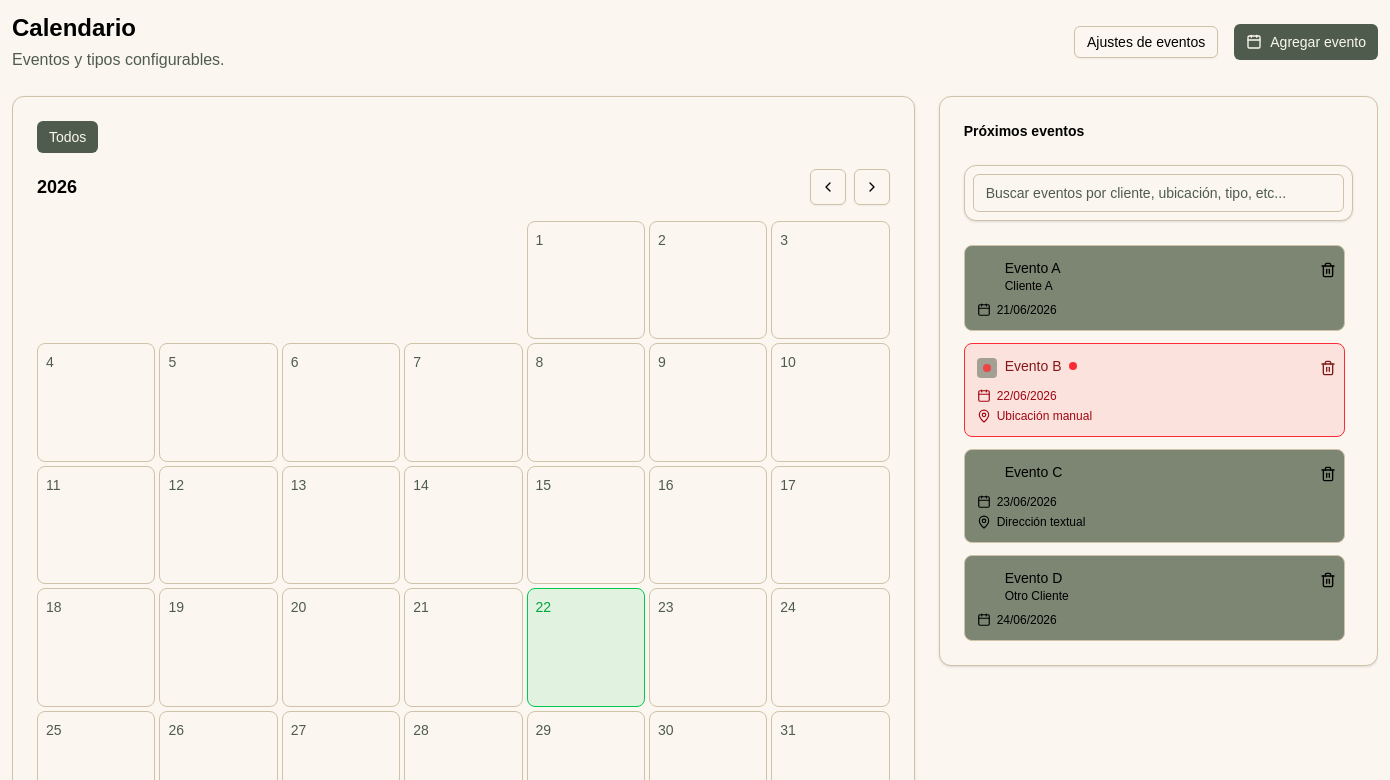
Test: CalendarView › search › filters by work locality from workDataMap
This screenshot has width=1390, height=780.
In the field with placeholder "Buscar eventos por cliente, ubicación, tipo, etc...": (1158, 193) [973, 174, 1344, 212], type "Palermo"
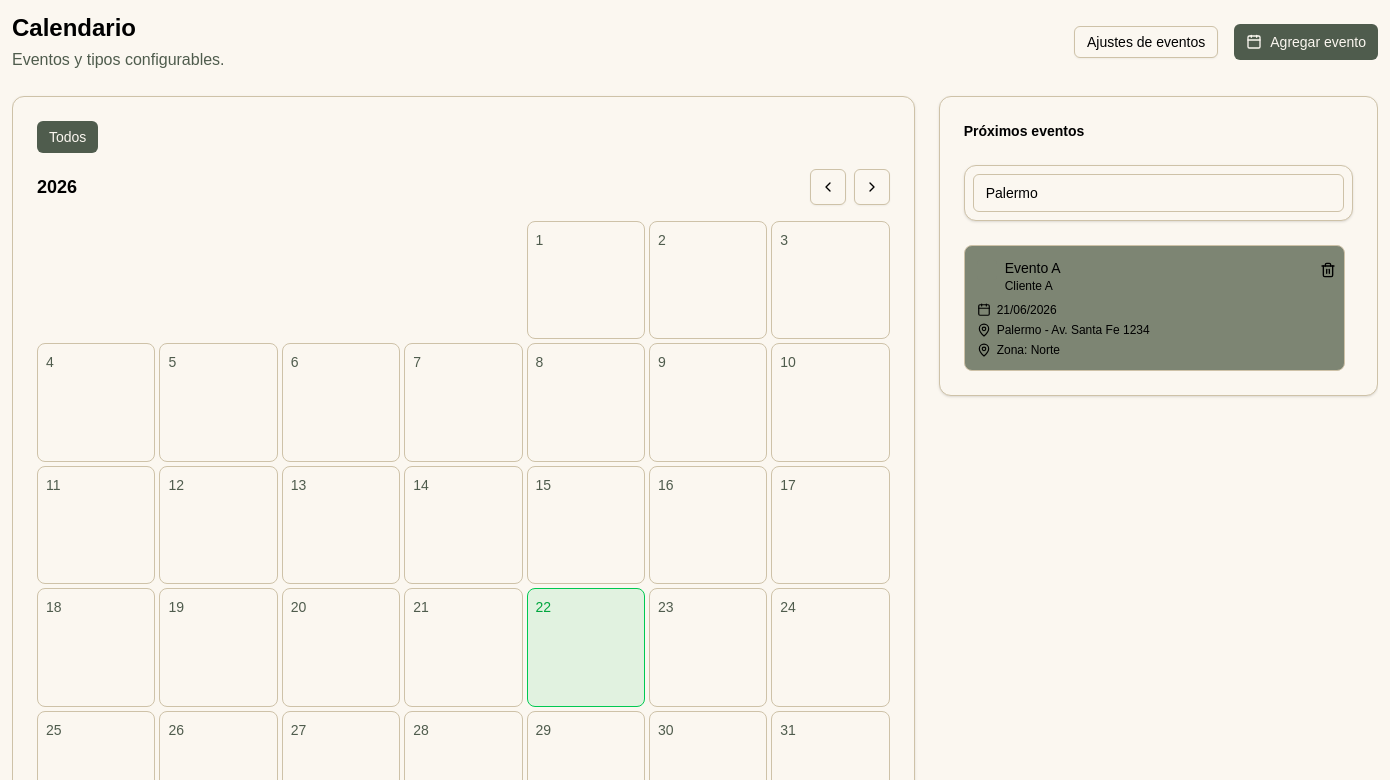
Check: the heading "Evento B" is gone
Check: the heading "Evento C" is gone
Check: the heading "Evento D" is gone
